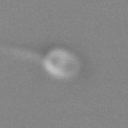normal: (1, 42, 42, 66)
